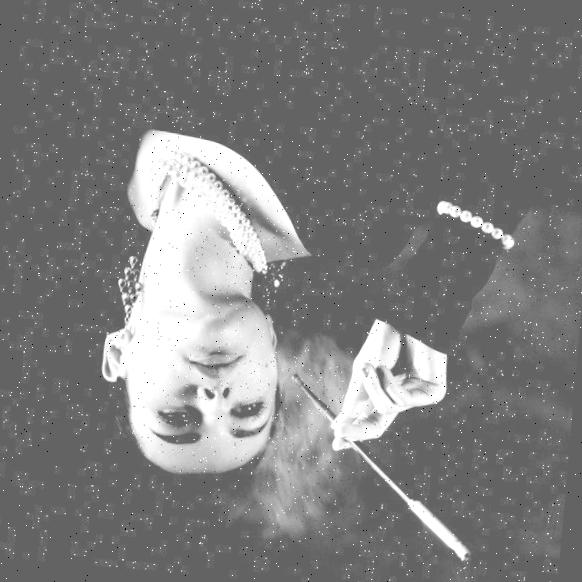smoke: (260, 350, 358, 533)
